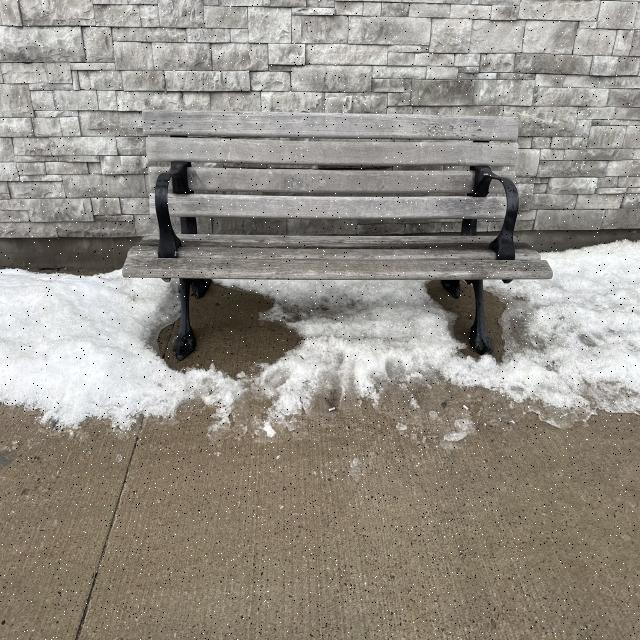Bench: (121, 100, 556, 362)
